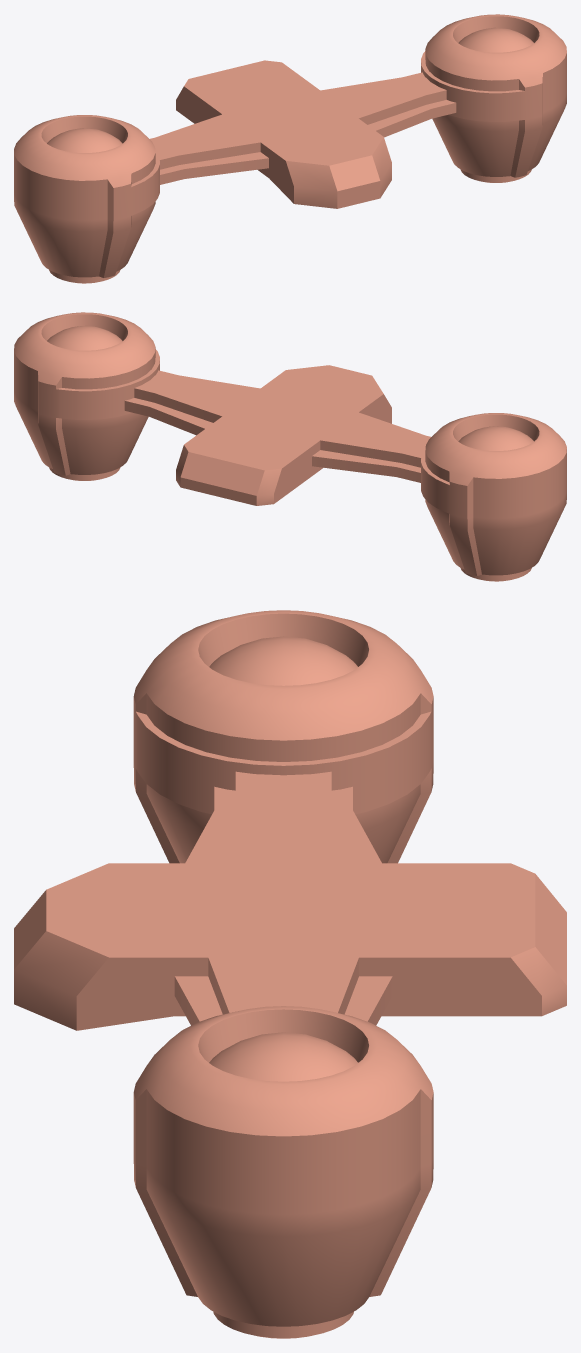
File: scout_jetpack.fbx
The picture shows the model from 3 angles, top to bottom: view 1: azimuth 30°, elevation 25°; view 2: azimuth 150°, elevation 25°; view 3: azimuth 270°, elevation 25°; orthographic projection. The views are drawn at different scales.
Parts seen in each view (by area): view 1: Jetpack; view 2: Jetpack; view 3: Jetpack.
Boxes of the visible parts, bbox=[...] form: Jetpack: bbox=[14, 14, 566, 283]; Jetpack: bbox=[14, 312, 566, 581]; Jetpack: bbox=[14, 610, 566, 1338].
Size of the model in its own units: 460 by 113 by 209.
